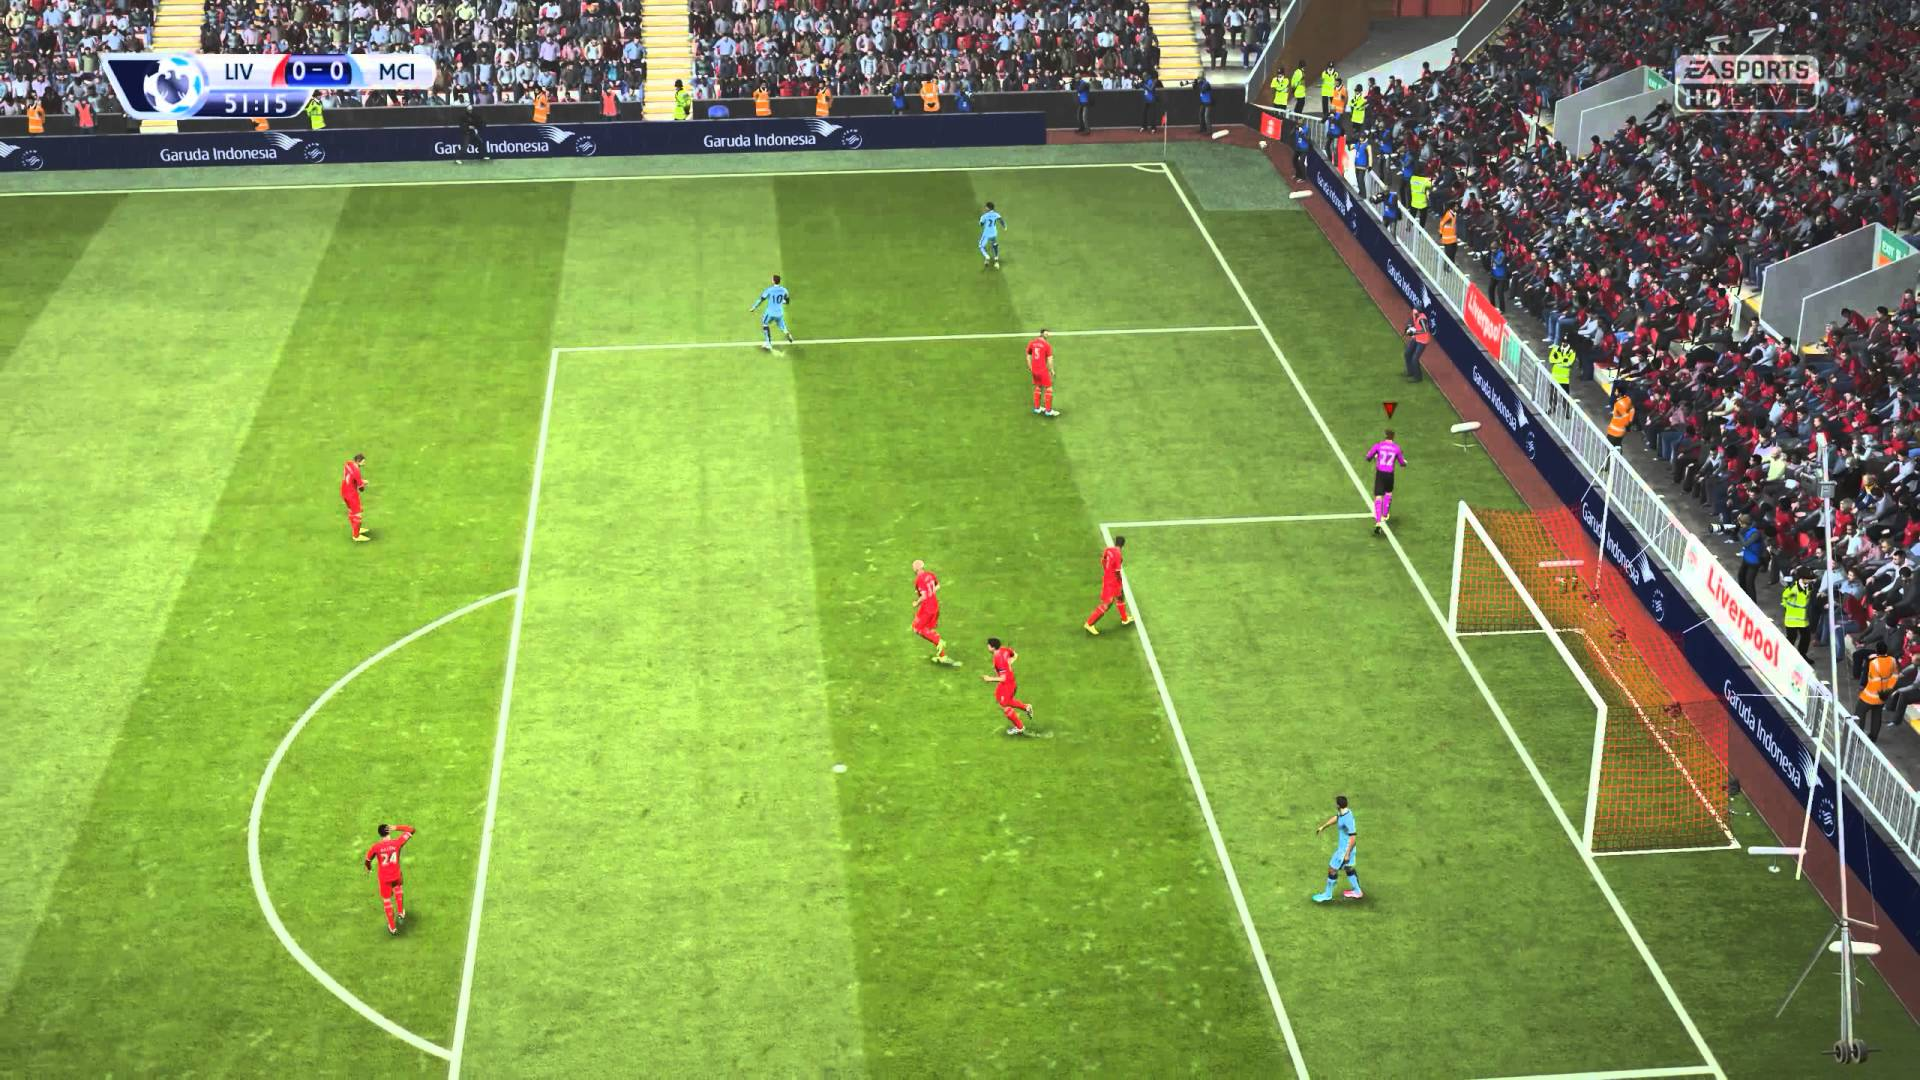goal: (1455, 494, 1804, 885)
player: (982, 635, 1045, 735), (909, 557, 960, 668), (1364, 424, 1410, 544), (1320, 792, 1367, 907), (369, 826, 417, 935), (1091, 533, 1142, 630), (336, 450, 389, 541), (1024, 326, 1061, 416), (758, 279, 798, 350), (974, 196, 1003, 271)
